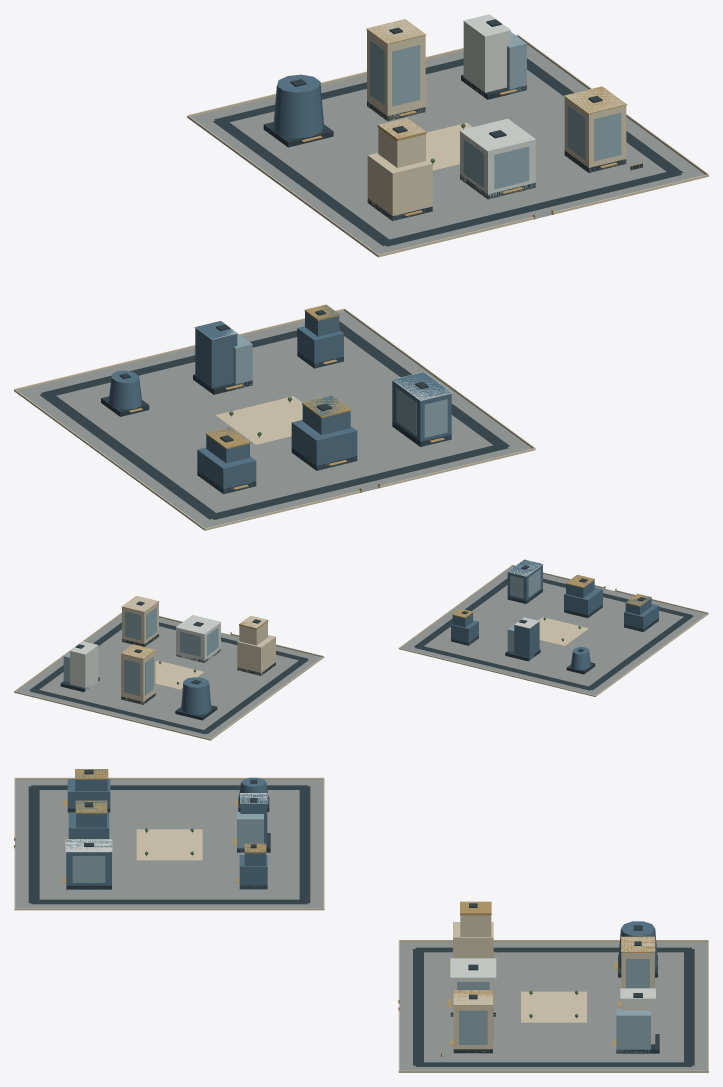
The model's file is GC-TILE-19-26.glb.
The picture shows the model from 3 angles, top to bottom: view 1: azimuth 30°, elevation 25°; view 2: azimuth 150°, elevation 25°; view 3: azimuth 270°, elevation 25°; orthographic projection. The views are drawn at different scales.
Parts seen in each view (by area): view 1: GC-TILE-19-26-paving, GC-TILE-19-26-ivory, GC-TILE-19-26-dark, GC-TILE-19-26-blue, GC-TILE-19-26-glass, GC-TILE-19-26-white, GC-TILE-19-26-gold; view 2: GC-TILE-19-26-paving, GC-TILE-19-26-ivory, GC-TILE-19-26-dark, GC-TILE-19-26-blue, GC-TILE-19-26-glass, GC-TILE-19-26-white, GC-TILE-19-26-gold; view 3: GC-TILE-19-26-paving, GC-TILE-19-26-ivory, GC-TILE-19-26-dark, GC-TILE-19-26-blue, GC-TILE-19-26-glass, GC-TILE-19-26-white, GC-TILE-19-26-gold.
Part boxes in pixels (<box>): GC-TILE-19-26-paving: <box>17,44,704,528</box>; GC-TILE-19-26-ivory: <box>14,19,708,530</box>; GC-TILE-19-26-dark: <box>40,19,683,519</box>; GC-TILE-19-26-blue: <box>108,74,451,493</box>; GC-TILE-19-26-glass: <box>233,32,621,437</box>; GC-TILE-19-26-white: <box>194,14,536,400</box>; GC-TILE-19-26-gold: <box>129,19,643,492</box>; GC-TILE-19-26-paving: <box>16,566,706,738</box>; GC-TILE-19-26-ivory: <box>14,565,708,740</box>; GC-TILE-19-26-dark: <box>29,565,693,733</box>; GC-TILE-19-26-blue: <box>181,559,658,714</box>; GC-TILE-19-26-glass: <box>63,569,540,695</box>; GC-TILE-19-26-white: <box>70,559,543,690</box>; GC-TILE-19-26-gold: <box>120,574,651,661</box>; GC-TILE-19-26-paving: <box>15,779,707,1070</box>; GC-TILE-19-26-ivory: <box>14,777,708,1072</box>; GC-TILE-19-26-dark: <box>28,770,694,1066</box>; GC-TILE-19-26-blue: <box>66,769,657,968</box>; GC-TILE-19-26-glass: <box>66,812,654,1053</box>; GC-TILE-19-26-white: <box>65,793,655,1044</box>; GC-TILE-19-26-gold: <box>14,769,655,1053</box>.
Bounding box in the file's own units: 759 × 77.4 × 760.
